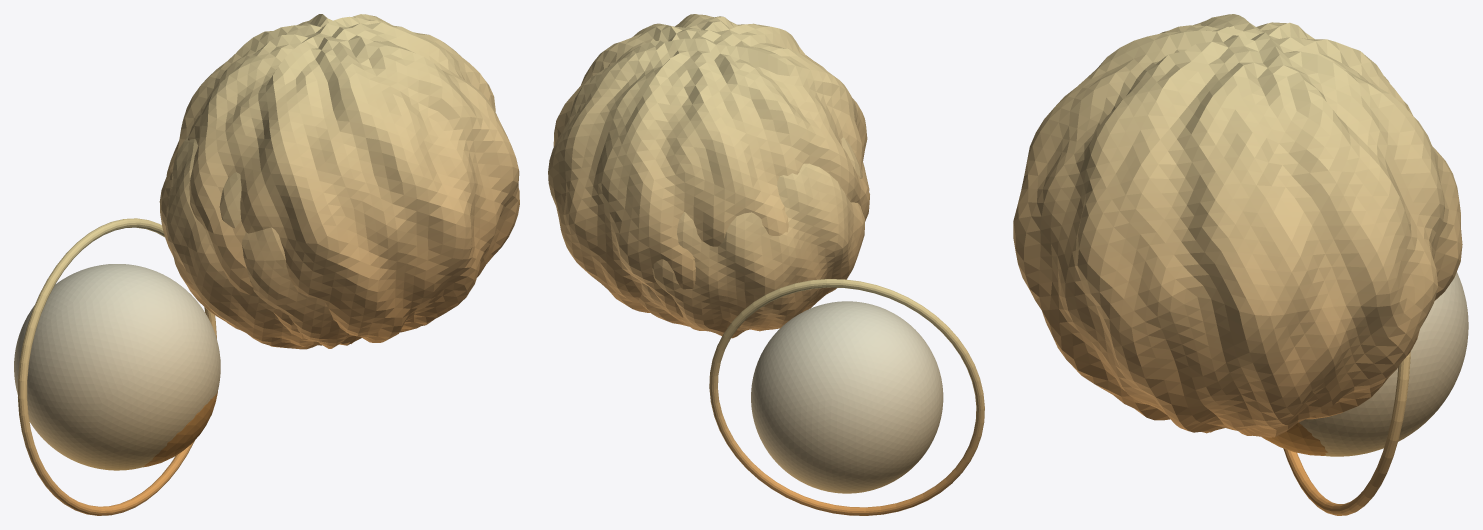
The model's file is orb_sun_radiant.glb.
The picture shows the model from 3 angles, left to right: view 1: azimuth 30°, elevation 25°; view 2: azimuth 150°, elevation 25°; view 3: azimuth 270°, elevation 25°; orthographic projection. The views are drawn at different scales.
Visible parts, largest first — view 1: orb_sun_radiant; view 2: orb_sun_radiant; view 3: orb_sun_radiant.
Boxes of the visible parts, x1,y1,x2,y2 form: orb_sun_radiant: [14, 14, 519, 515]; orb_sun_radiant: [548, 14, 984, 515]; orb_sun_radiant: [1013, 14, 1468, 515].
Size of the model in its own units: 2.29 by 2.14 by 1.53.
